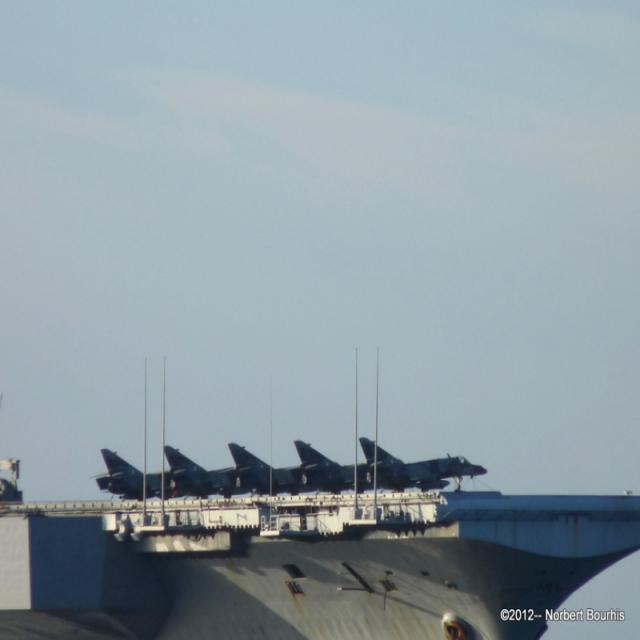Portanaves: (5, 347, 635, 624)
